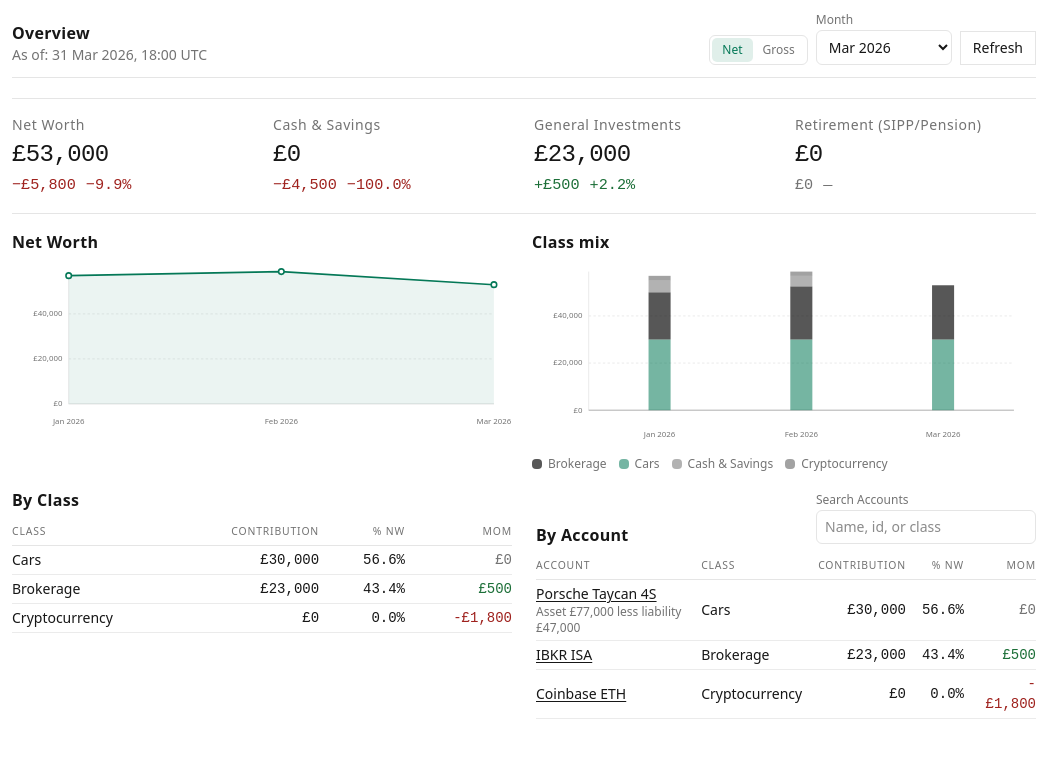
WmwOverview › switches to Gross to show the car and loan separately
Expected: the table named "By Account" is shown, x1=536 y1=552 x2=1036 y2=719
Click the button "Gross": (779, 50) x1=753 y1=38 x2=805 y2=62
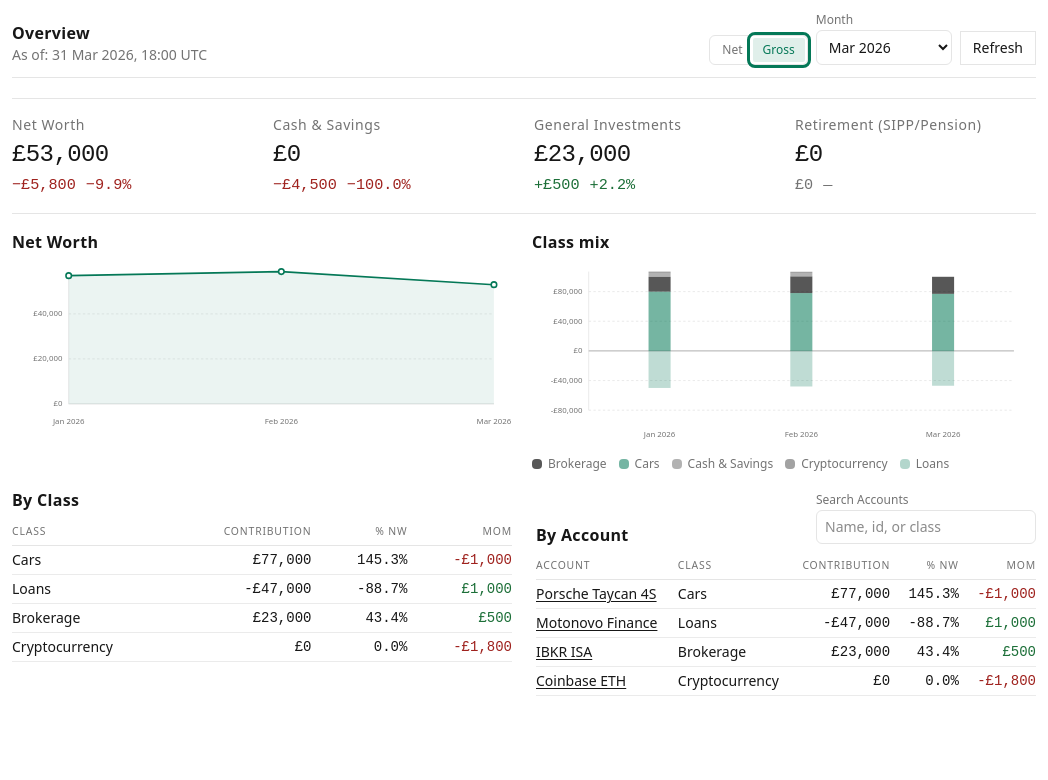
Expected: the text "£77,000" in the row of "Porsche Taycan 4S" is shown, x1=831 y1=586 x2=890 y2=602
Expected: the text "-£47,000" in the row of "Motonovo Finance" is shown, x1=823 y1=615 x2=890 y2=631
Expected: the text "less liability" is gone
